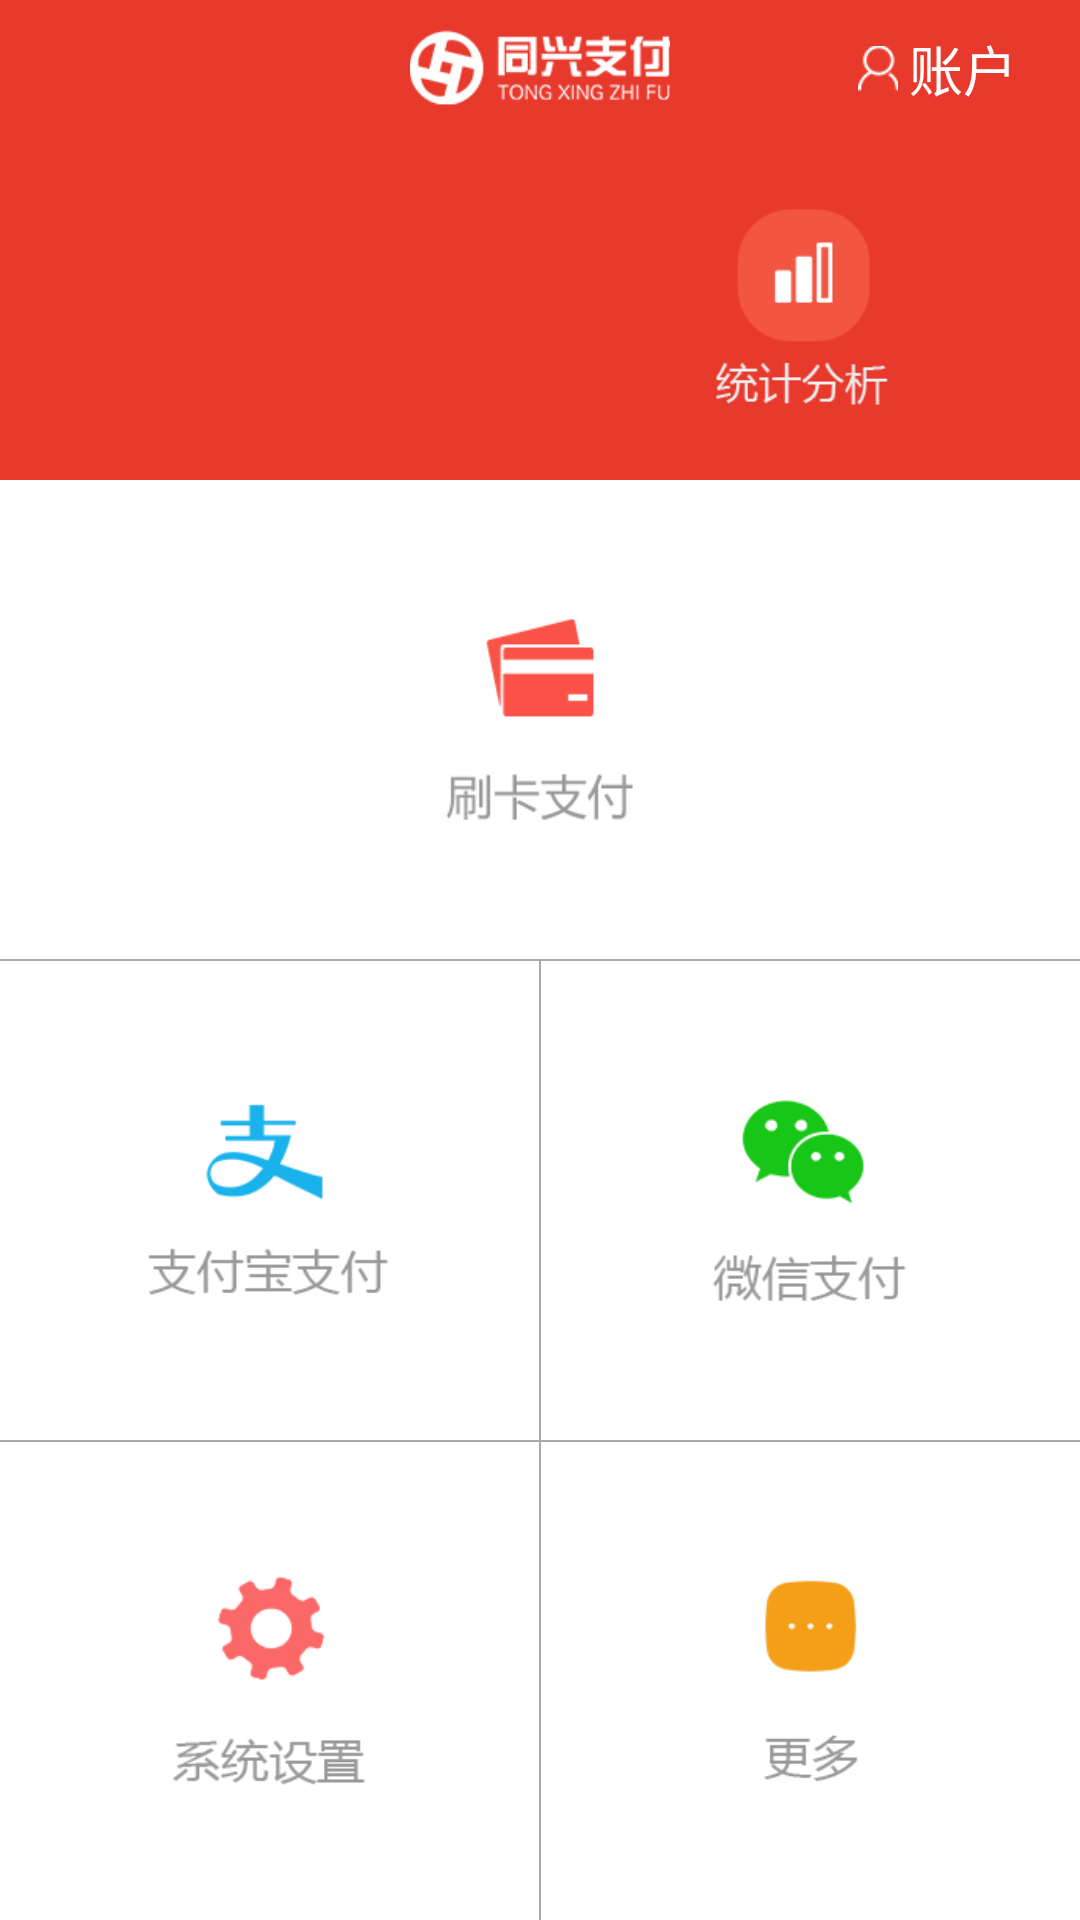

Where icons sit on this 1080 x 1920 app screen, as (x1, y1, x2, y2):
home mine: (858, 46, 898, 91)
